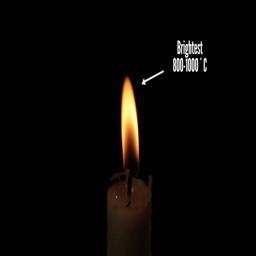fire: (120, 77, 140, 161)
